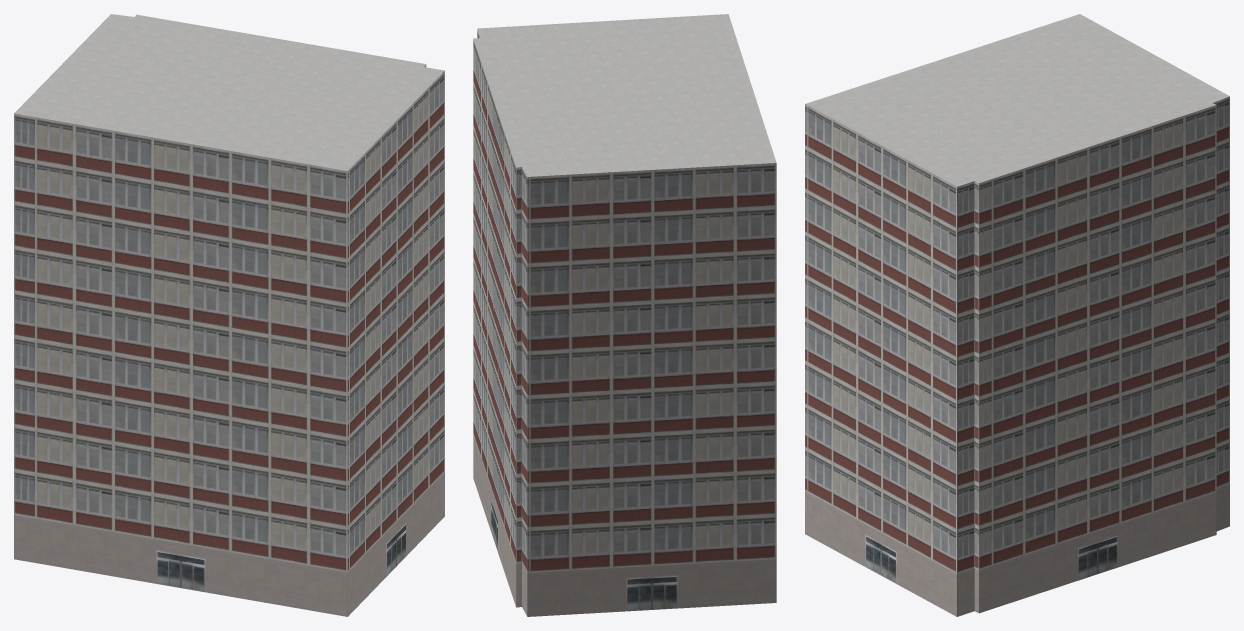
3 renders of one model, left to right at view 1: azimuth 30°, elevation 25°; view 2: azimuth 150°, elevation 25°; view 3: azimuth 270°, elevation 25°, orthographic. The views are drawn at different scales.
Visible parts, largest first — view 1: BuildingMaster_1991193768064463577600000000_0, BuildingMaster_1991193768064463577600000000_1; view 2: BuildingMaster_1991193768064463577600000000_0, BuildingMaster_1991193768064463577600000000_1; view 3: BuildingMaster_1991193768064463577600000000_0, BuildingMaster_1991193768064463577600000000_1.
Boxes of the visible parts, <box> form: BuildingMaster_1991193768064463577600000000_0: <box>14,64,444,616</box>; BuildingMaster_1991193768064463577600000000_1: <box>14,14,444,170</box>; BuildingMaster_1991193768064463577600000000_0: <box>473,30,776,616</box>; BuildingMaster_1991193768064463577600000000_1: <box>473,14,776,176</box>; BuildingMaster_1991193768064463577600000000_0: <box>805,96,1229,616</box>; BuildingMaster_1991193768064463577600000000_1: <box>805,14,1229,186</box>.
Size of the model in its own units: 30.17 by 35 by 31.34.
2 materials, 2 textured.
